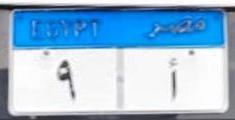9: (55, 58, 79, 102)
alif: (163, 52, 182, 100)
